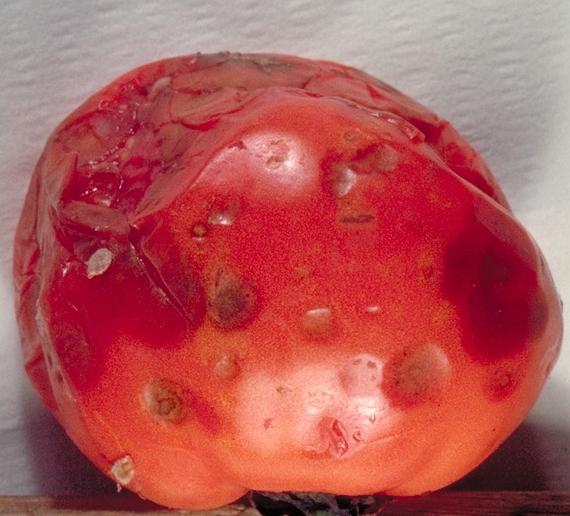anthracnose: (65, 96, 367, 336)
